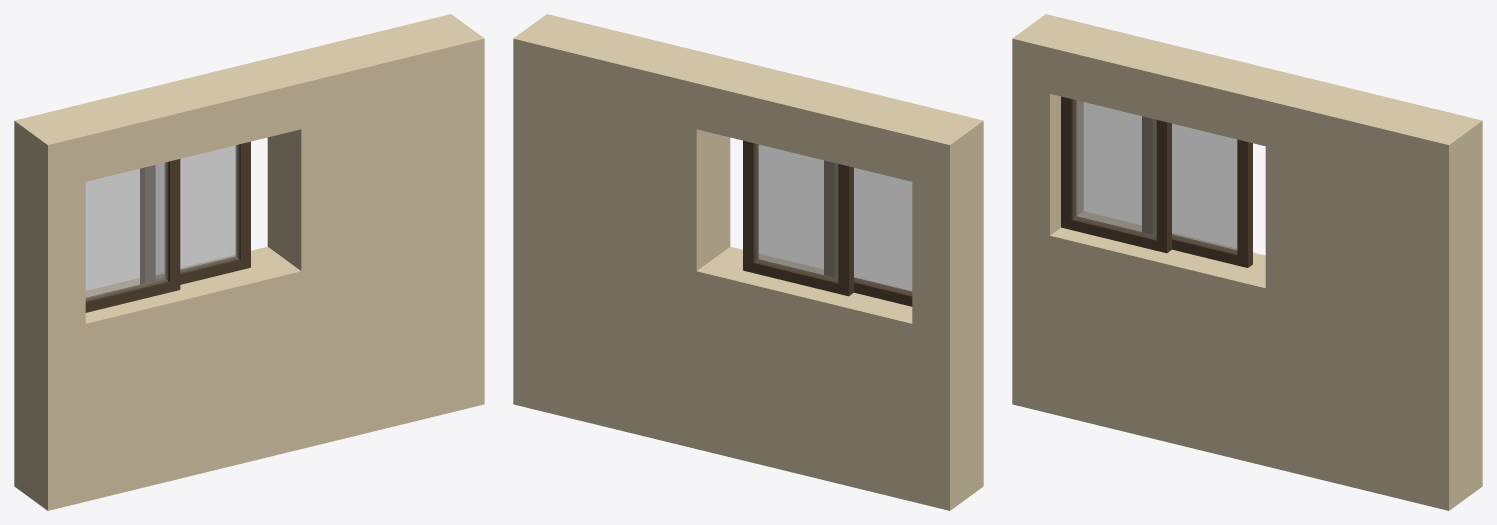
The model's file is Wall_window.fbx.
3 renders of one model, left to right at view 1: azimuth 30°, elevation 25°; view 2: azimuth 150°, elevation 25°; view 3: azimuth 330°, elevation 25°, orthographic.
Visible parts, largest first — view 1: wall, window1, window2; view 2: wall, window2, window1; view 3: wall, window1, window2.
Boxes of the visible parts, x1,y1,x2,y2 form: wall: (14, 14, 484, 510); window1: (85, 159, 180, 312); window2: (140, 141, 250, 284); wall: (513, 14, 983, 510); window2: (743, 140, 853, 296); window1: (824, 160, 912, 306); wall: (1012, 14, 1482, 510); window1: (1061, 96, 1171, 253); window2: (1142, 116, 1252, 267).
Size of the model in its own units: 3 by 2.4 by 0.4.
